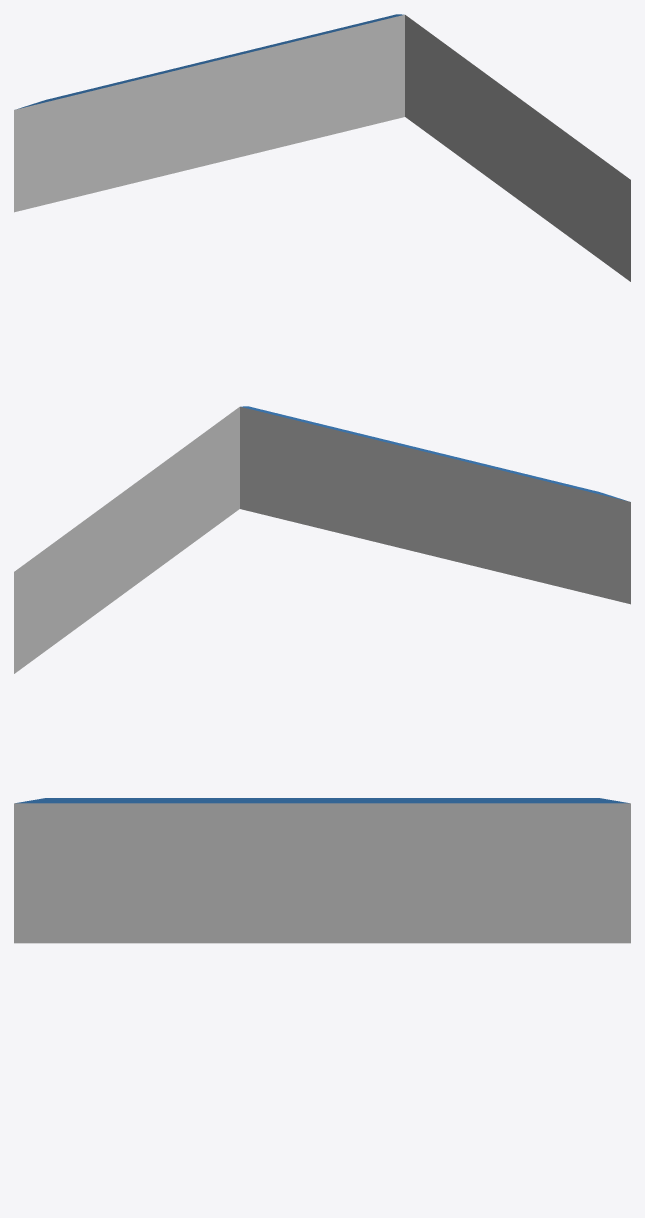
The model's file is ceiling_8x8.glb.
3 renders of one model, top to bottom at view 1: azimuth 30°, elevation 25°; view 2: azimuth 150°, elevation 25°; view 3: azimuth 270°, elevation 25°, orthographic. The views are drawn at different scales.
Visible parts, largest first — view 1: Ceiling_8x8-col; view 2: Ceiling_8x8-col; view 3: Ceiling_8x8-col.
Boxes of the visible parts, x1,y1,x2,y2 form: Ceiling_8x8-col: [14, 14, 630, 281]; Ceiling_8x8-col: [14, 406, 630, 673]; Ceiling_8x8-col: [14, 798, 630, 943].
Bounding box in the file's own units: 8 × 2.27 × 8.
